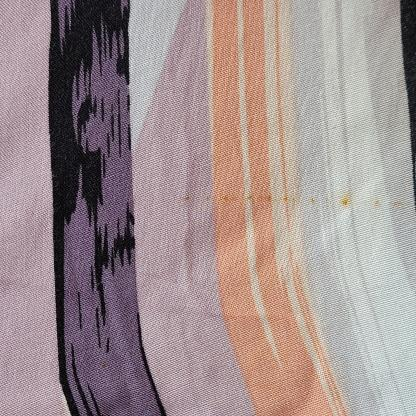spot: (182, 188, 412, 216)
